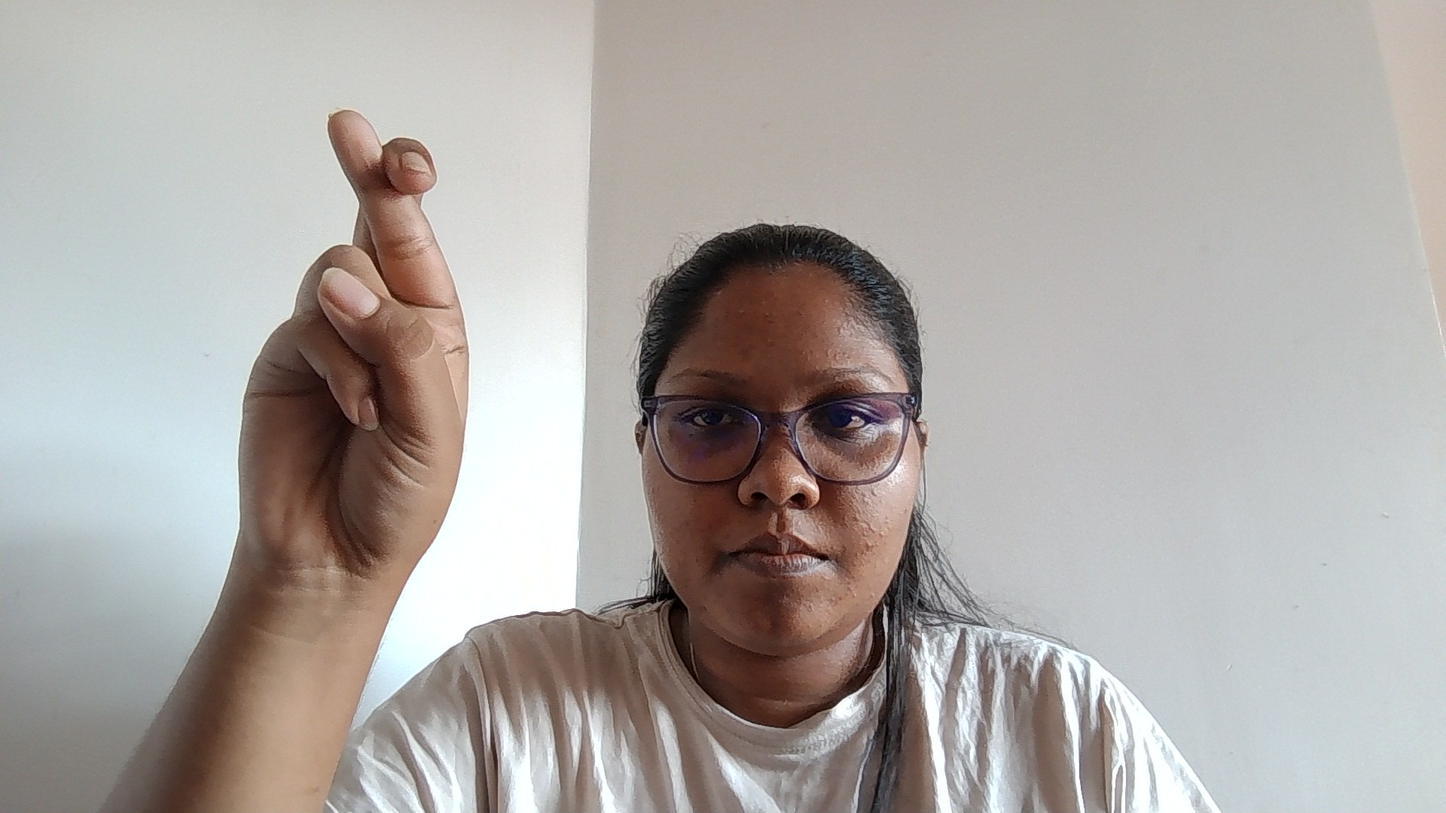Good_Luck: (179, 68, 557, 650)
